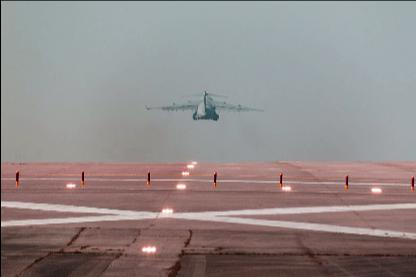C2: (145, 90, 265, 120)
